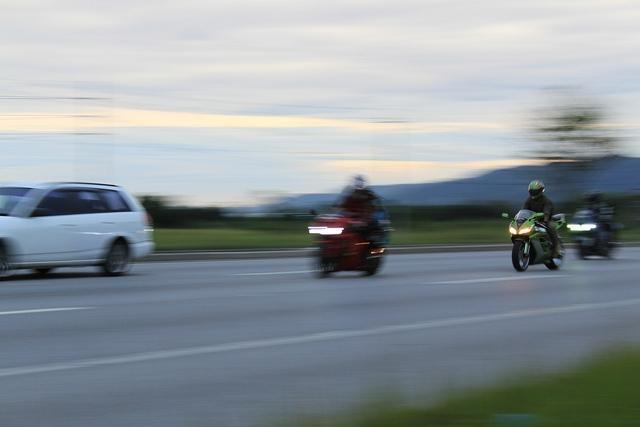car: (2, 181, 156, 277)
motorcycle: (306, 210, 392, 280), (501, 209, 566, 270), (568, 208, 626, 257)
